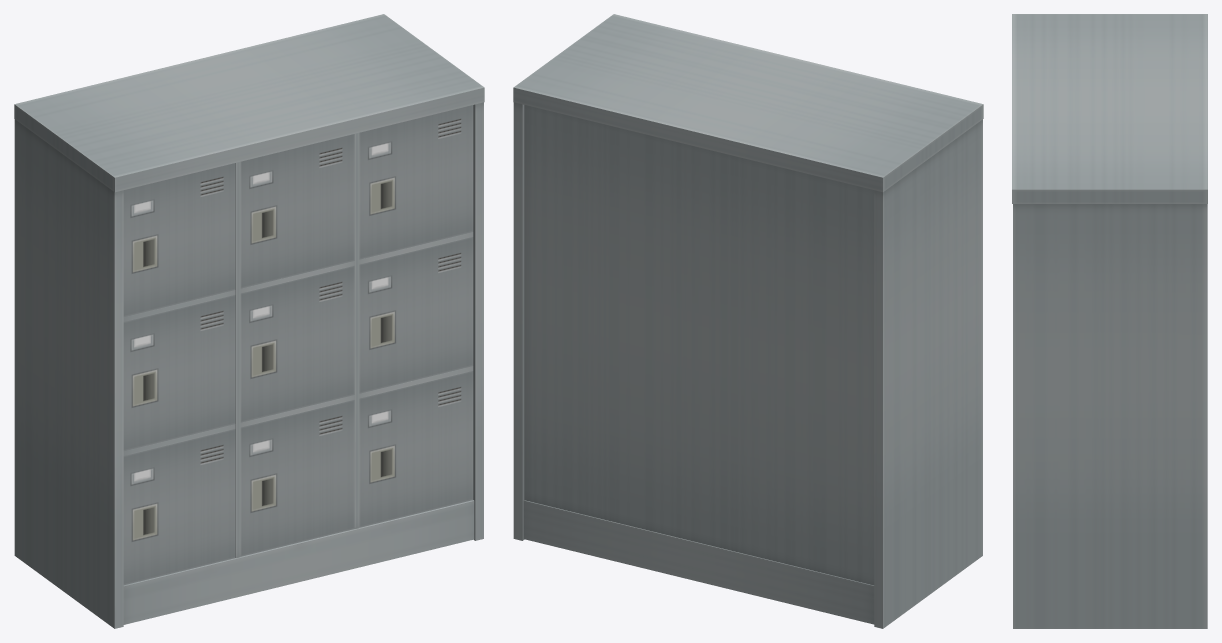
File: set_shoecupboard_a_15.fbx
3 views of the same model, side by side, from view 1: azimuth 30°, elevation 25°; view 2: azimuth 150°, elevation 25°; view 3: azimuth 270°, elevation 25° (orthographic). The views are drawn at different scales.
Visible parts, largest first — view 1: shoecupboard_a_15, door_a_15_06, door_a_15_05, door_a_15_09, door_a_15_08, door_a_15_07, door_a_15_04, door_a_15_02, door_a_15_03, door_a_15_01; view 2: shoecupboard_a_15; view 3: shoecupboard_a_15.
Part boxes in pixels (x1,y1,x2,y2): shoecupboard_a_15: (14, 14, 484, 628); door_a_15_06: (240, 400, 354, 556); door_a_15_05: (240, 266, 354, 422); door_a_15_09: (359, 371, 473, 527); door_a_15_08: (359, 237, 473, 393); door_a_15_07: (359, 105, 473, 259); door_a_15_04: (240, 134, 354, 288); door_a_15_02: (123, 295, 235, 450); door_a_15_03: (123, 429, 235, 584); door_a_15_01: (123, 163, 235, 316); shoecupboard_a_15: (513, 14, 983, 628); shoecupboard_a_15: (1012, 14, 1207, 628).
Size of the model in its own units: 79.39 by 92.62 by 37.38.
